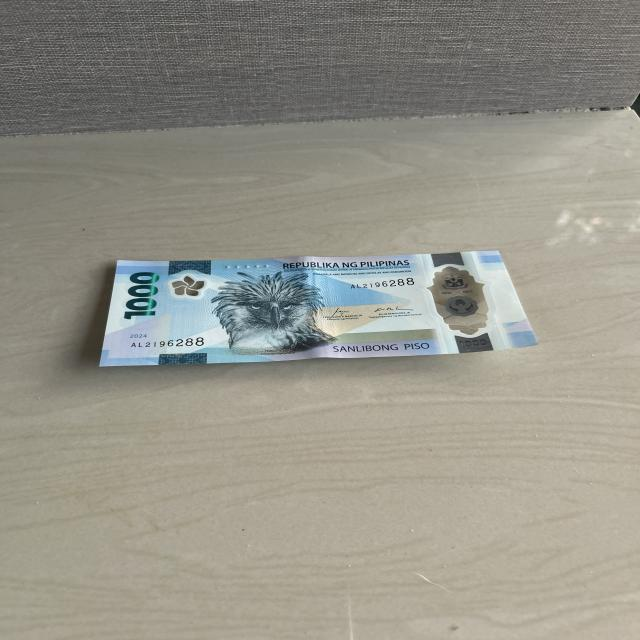clear_window: (424, 262, 493, 336)
eagle: (213, 273, 328, 352)
sampaguita: (166, 273, 210, 300)
